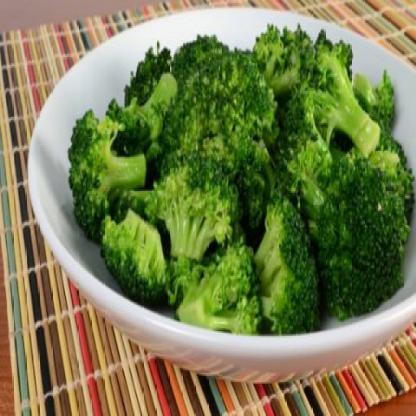broccoli: (66, 18, 416, 338)
